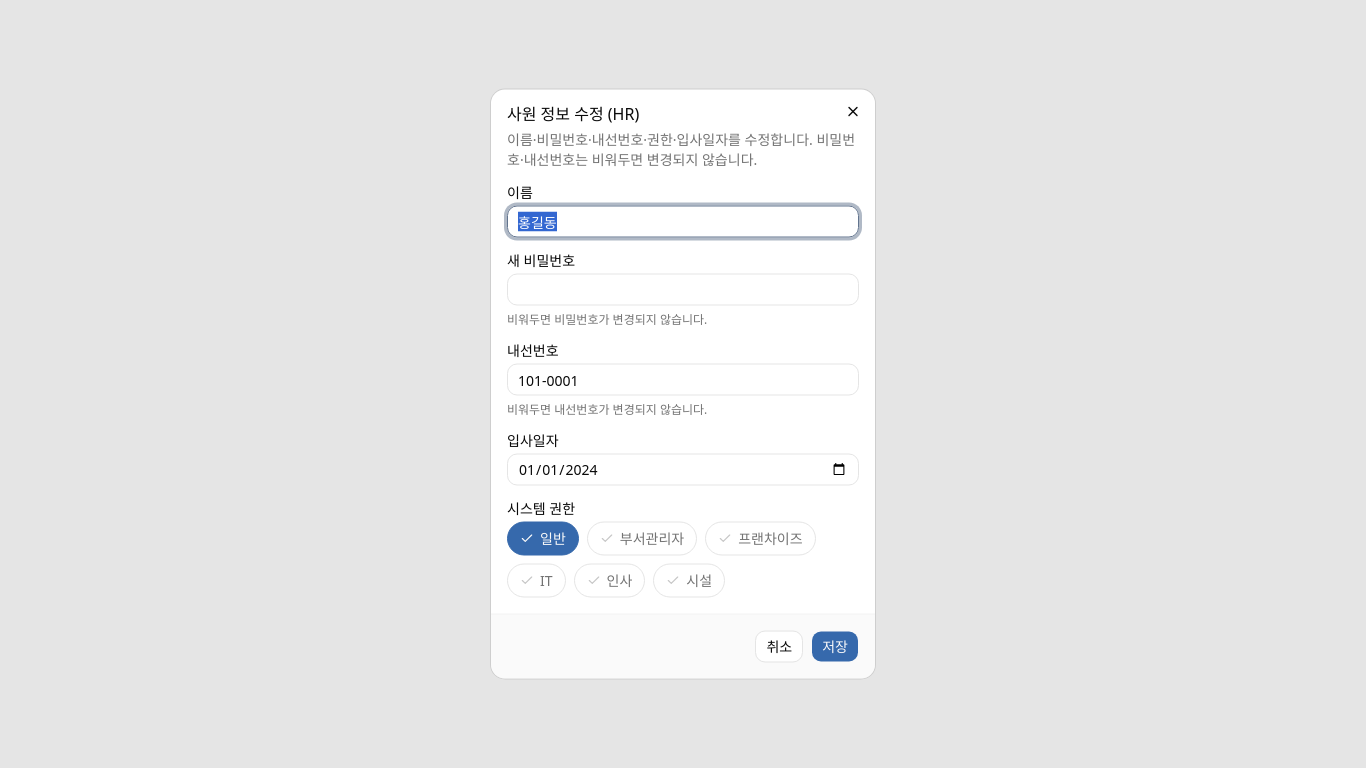
Test: HrManagedInfoDialog - 제출 › 서버 검증 실패(HR이 ADMIN 부여 시도 등) 시 다이얼로그가 닫히지 않고 root 에러가 표시된다
In the password field labelled "새 비밀번호": (683, 290) [507, 274, 859, 306], type "abc12345!"
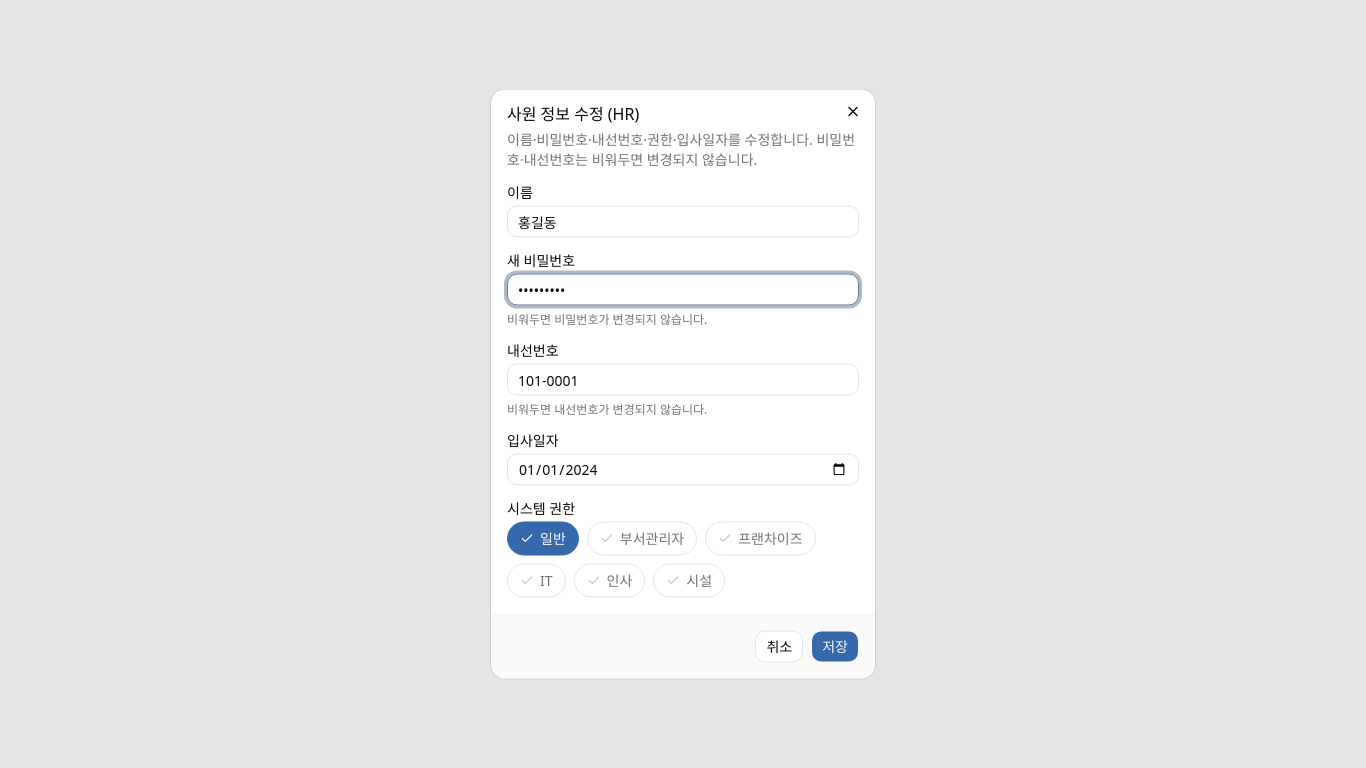
Click the button "저장": (835, 646) [811, 630, 859, 662]
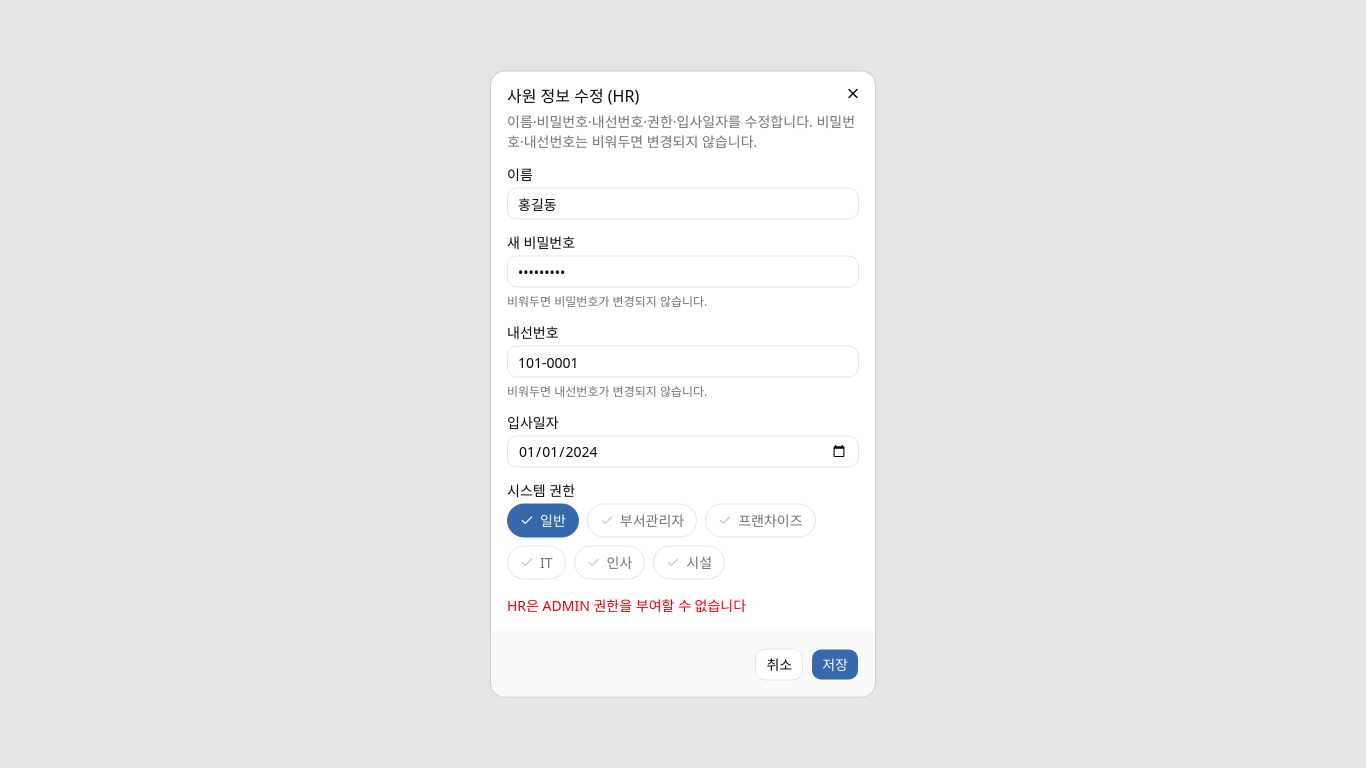
Result: the text "HR은 ADMIN 권한을 부여할 수 없습니다" is shown at [507, 596, 746, 614]
